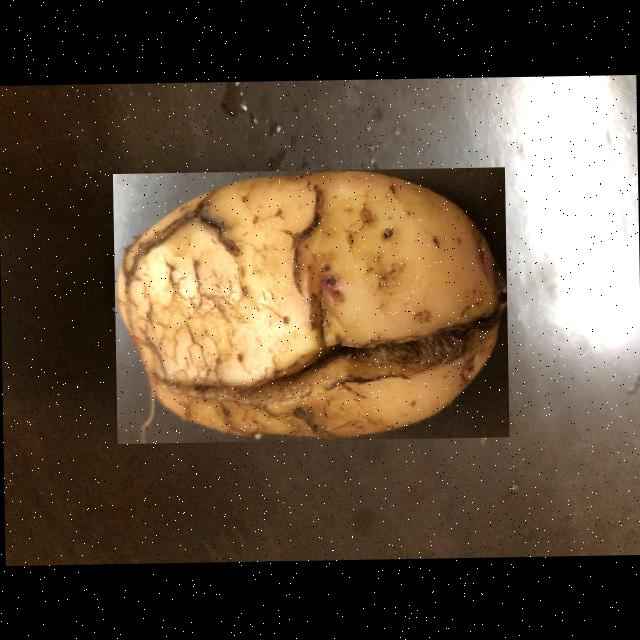Damaged potato: (111, 166, 508, 444)
